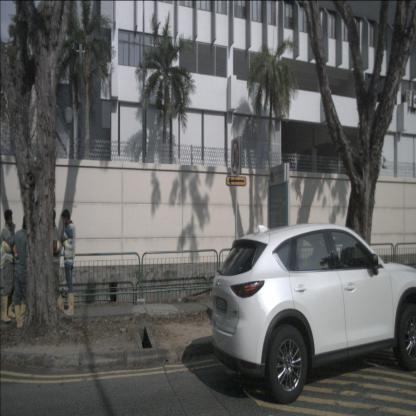vehicle-car: (211, 222, 415, 406)
